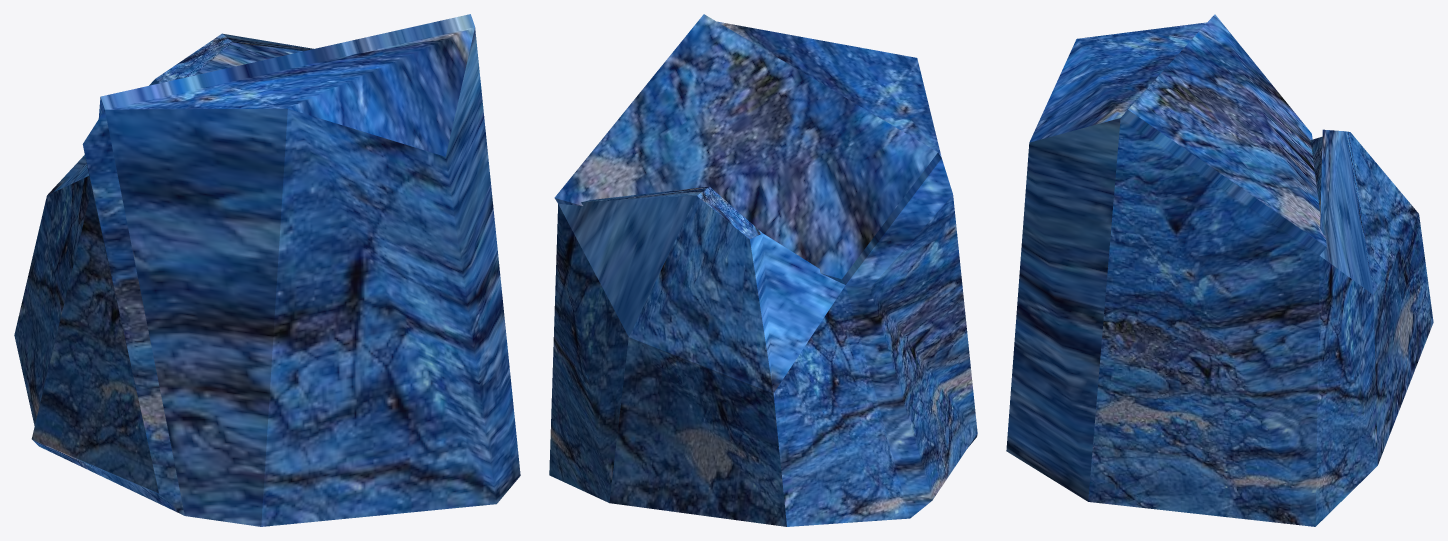
Rendered from texturedrock2.glb.
The picture shows the model from 3 angles, left to right: view 1: azimuth 30°, elevation 25°; view 2: azimuth 150°, elevation 25°; view 3: azimuth 270°, elevation 25°; orthographic projection. The views are drawn at different scales.
Visible parts, largest first — view 1: Cube; view 2: Cube; view 3: Cube.
Boxes of the visible parts, x1,y1,x2,y2 form: Cube: [14, 14, 520, 526]; Cube: [549, 14, 977, 526]; Cube: [1006, 14, 1433, 526].
Bounding box in the file's own units: 1.61 × 1.71 × 1.69.
Materials: 1 (1 with a texture image).
